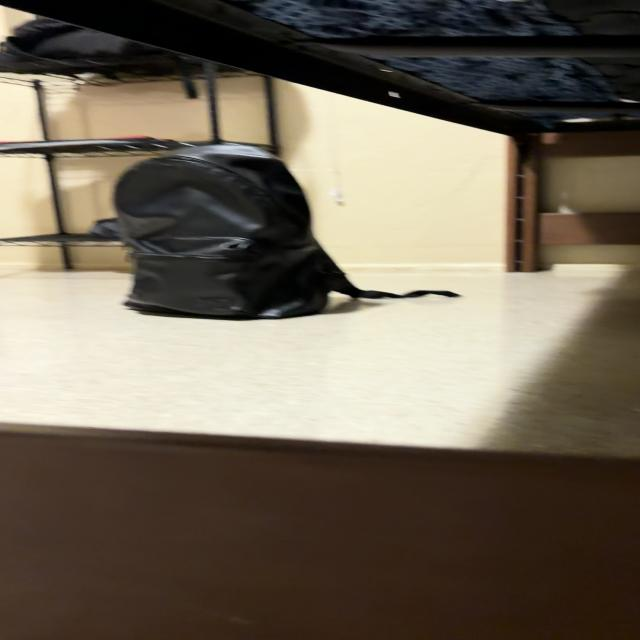backpack: (115, 144, 456, 318)
